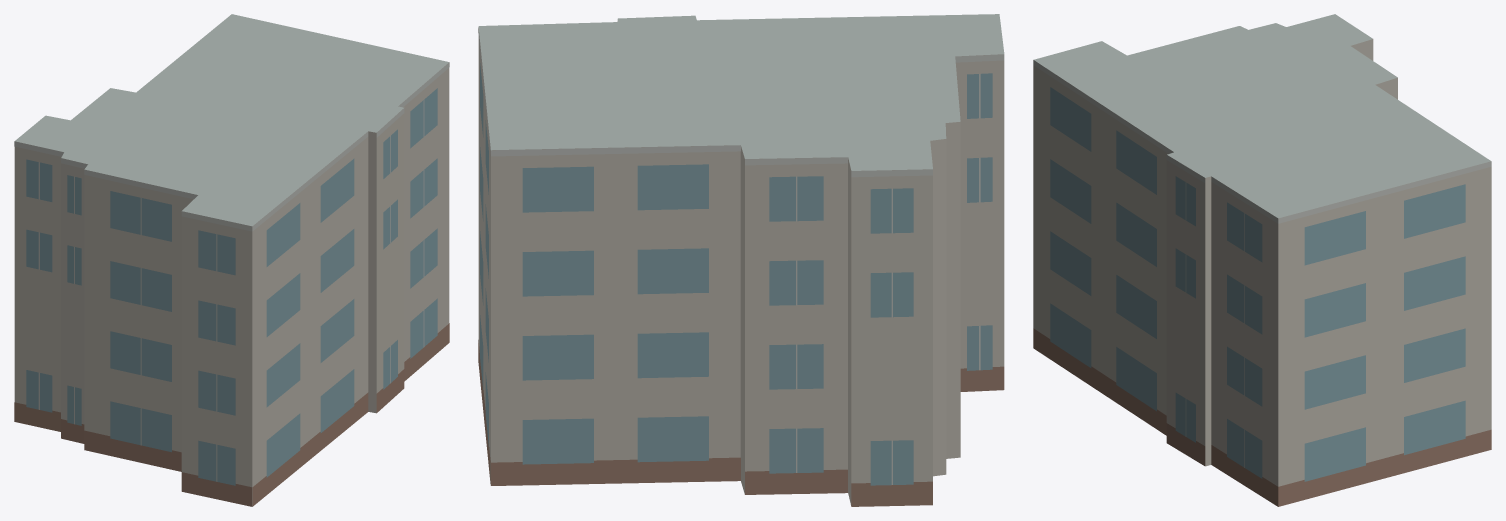
Rendered from survey-upis-33021524.glb.
The picture shows the model from 3 angles, left to right: view 1: azimuth 30°, elevation 25°; view 2: azimuth 150°, elevation 25°; view 3: azimuth 270°, elevation 25°; orthographic projection. The views are drawn at different scales.
Visible parts, largest first — view 1: survey-upis-33021524.tmp; view 2: survey-upis-33021524.tmp; view 3: survey-upis-33021524.tmp.
Boxes of the visible parts, x1,y1,x2,y2 form: survey-upis-33021524.tmp: [14, 14, 449, 506]; survey-upis-33021524.tmp: [478, 14, 1004, 506]; survey-upis-33021524.tmp: [1033, 14, 1491, 506].
Bounding box in the file's own units: 19.76 × 13 × 18.72.
